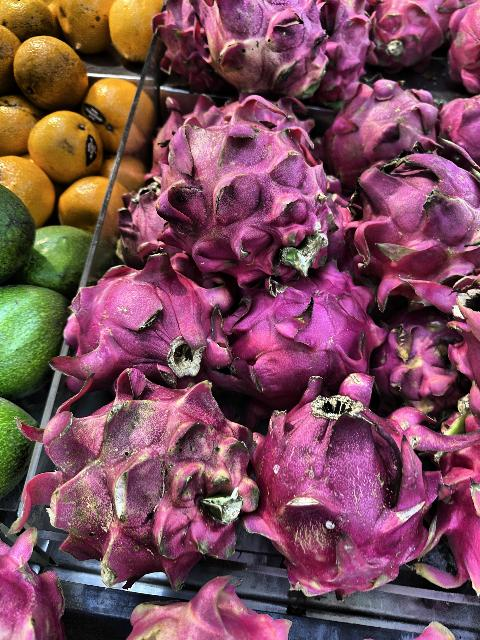buah-naga-belum-matang: (33, 376, 258, 564), (192, 1, 328, 98), (116, 584, 292, 640)
buah-naga-matang: (249, 372, 437, 588), (160, 100, 334, 276), (64, 254, 236, 382), (348, 141, 480, 297), (226, 269, 376, 381), (322, 74, 428, 160), (373, 313, 451, 407), (366, 0, 450, 66), (119, 174, 179, 260), (323, 0, 367, 98), (434, 88, 480, 150), (452, 0, 480, 100)
